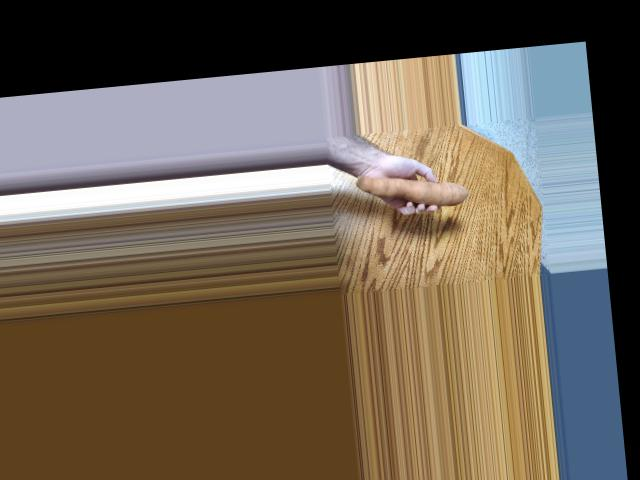sweet_potato: (361, 161, 475, 219)
